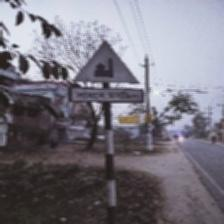Mosque in front: (71, 41, 141, 104)
